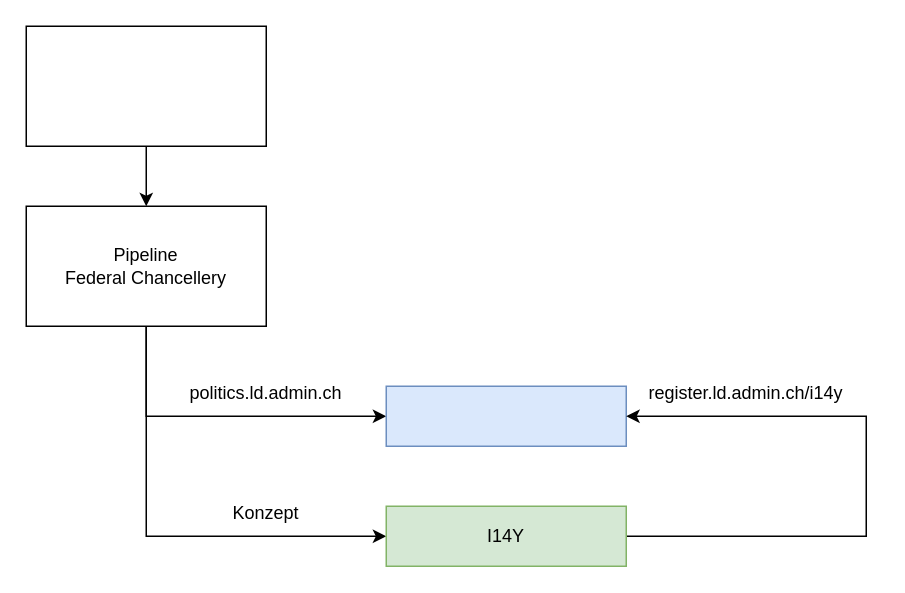
Some shapes in this 905 by 593 pixel diagram are drawn without their labels. The shapes that lost their labels are listed below. From the top down, each one's box as (x1, y1, x2, y2) in pixels, then its label:
(25, 25, 266, 146): Master (CSV) University of Bern
(385, 385, 626, 446): LINDAS
